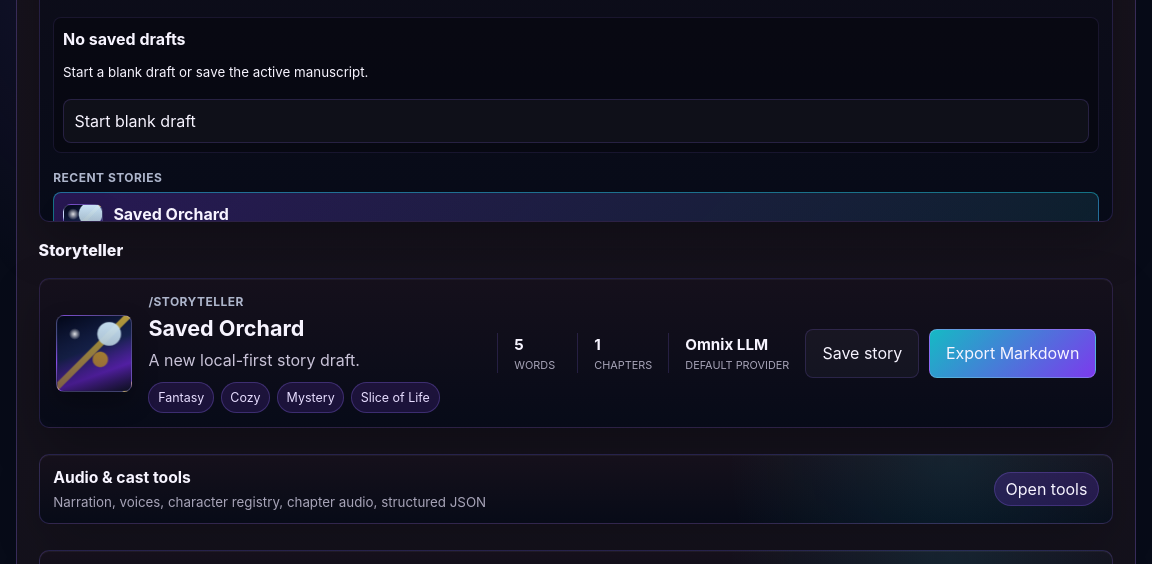
Test: StorytellerWorkspace › saves and exports the selected story version
(page scrolled)
Step 1. Click the button "Export Markdown" → (1013, 353), box [929,329,1096,378]
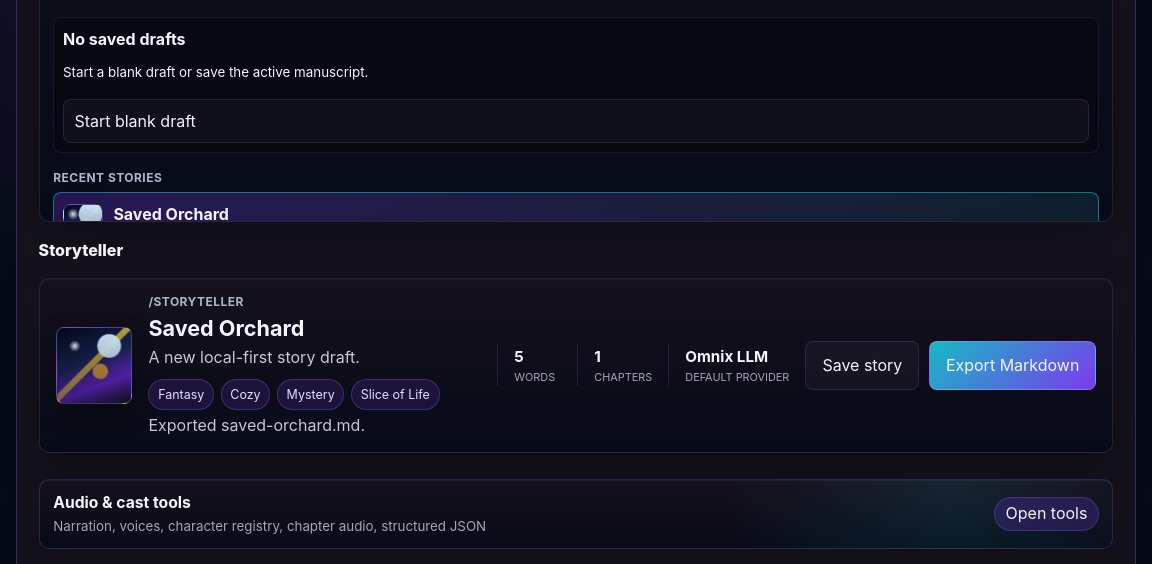
Result: the text "Exported saved-orchard.md." is shown at [148,415,365,435]
Step 2. Click the button "Save story" → (862, 366), box [805,341,919,390]
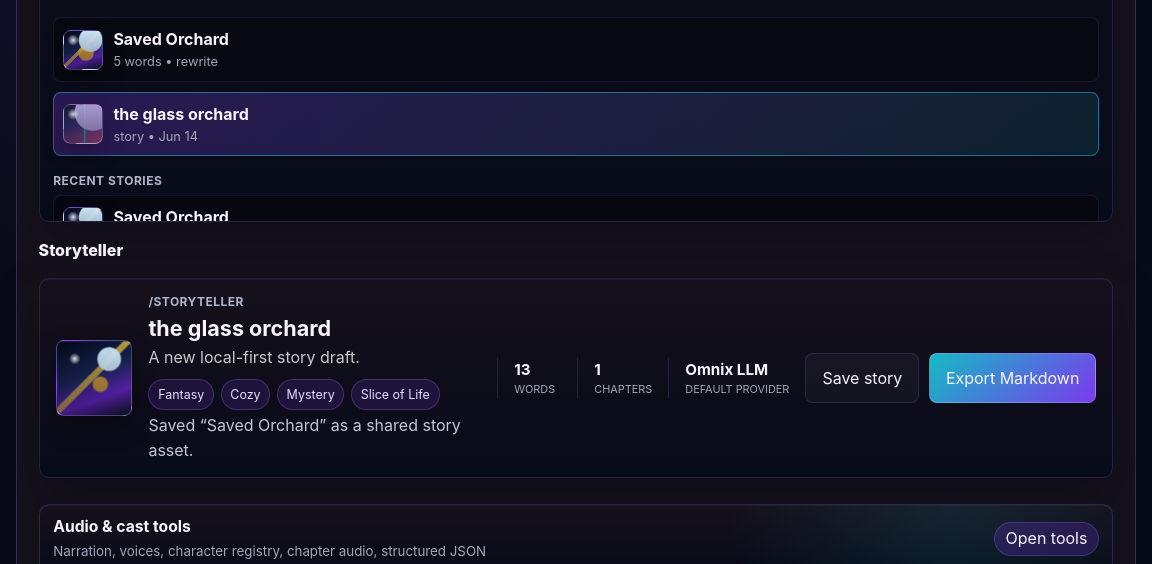
Result: the text "Saved “Saved Orchard” as a shared story asset." is shown at [148,413,481,463]
